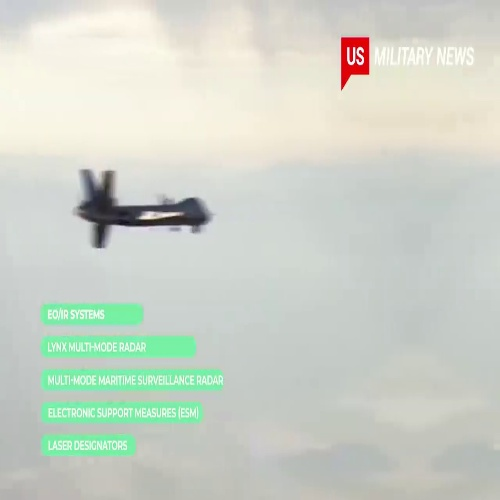uav: (69, 169, 219, 250)
